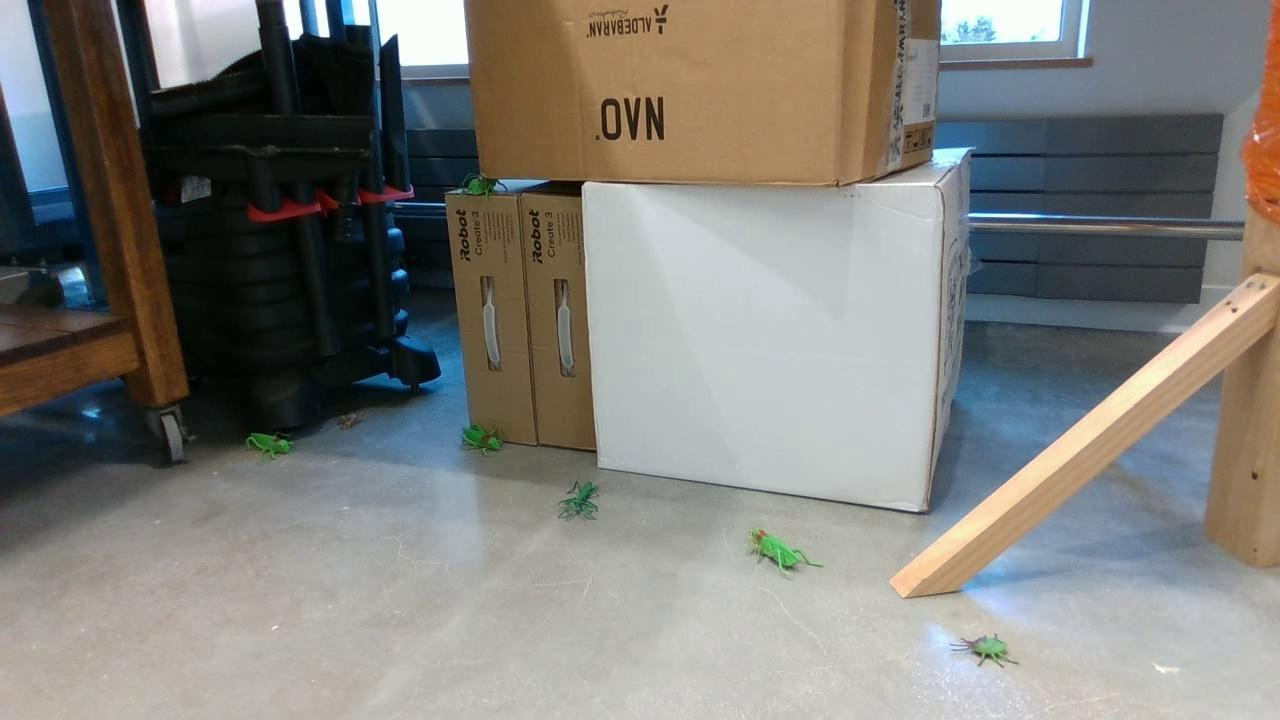grasshopper: (749, 525, 826, 585), (459, 420, 508, 459), (243, 432, 293, 461), (460, 175, 510, 199)
